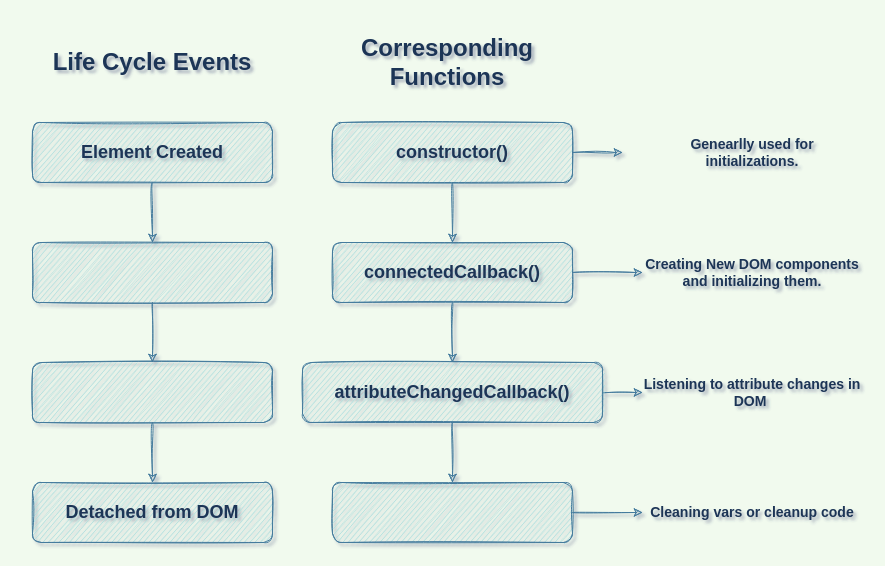
The diagram is 885 pixels wide and 566 high, and some of its shapes have lost their labels. The centre of each missing label's shape, as x and y in pixels:
"Attached to DOM" goes at point 152,272.
"disconnectedCallBack()" goes at point 452,512.
"Observes for attribute changes" goes at point 152,392.
